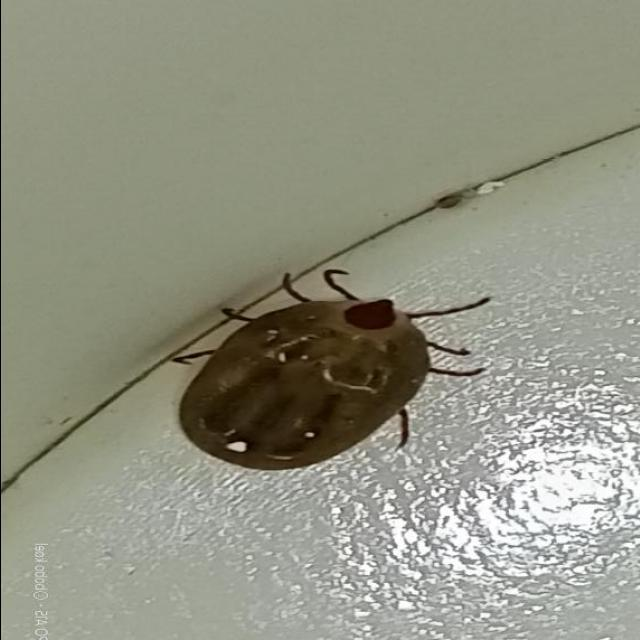Rhipicephalus Sanguineus-F-Fed: (169, 278, 496, 471)
